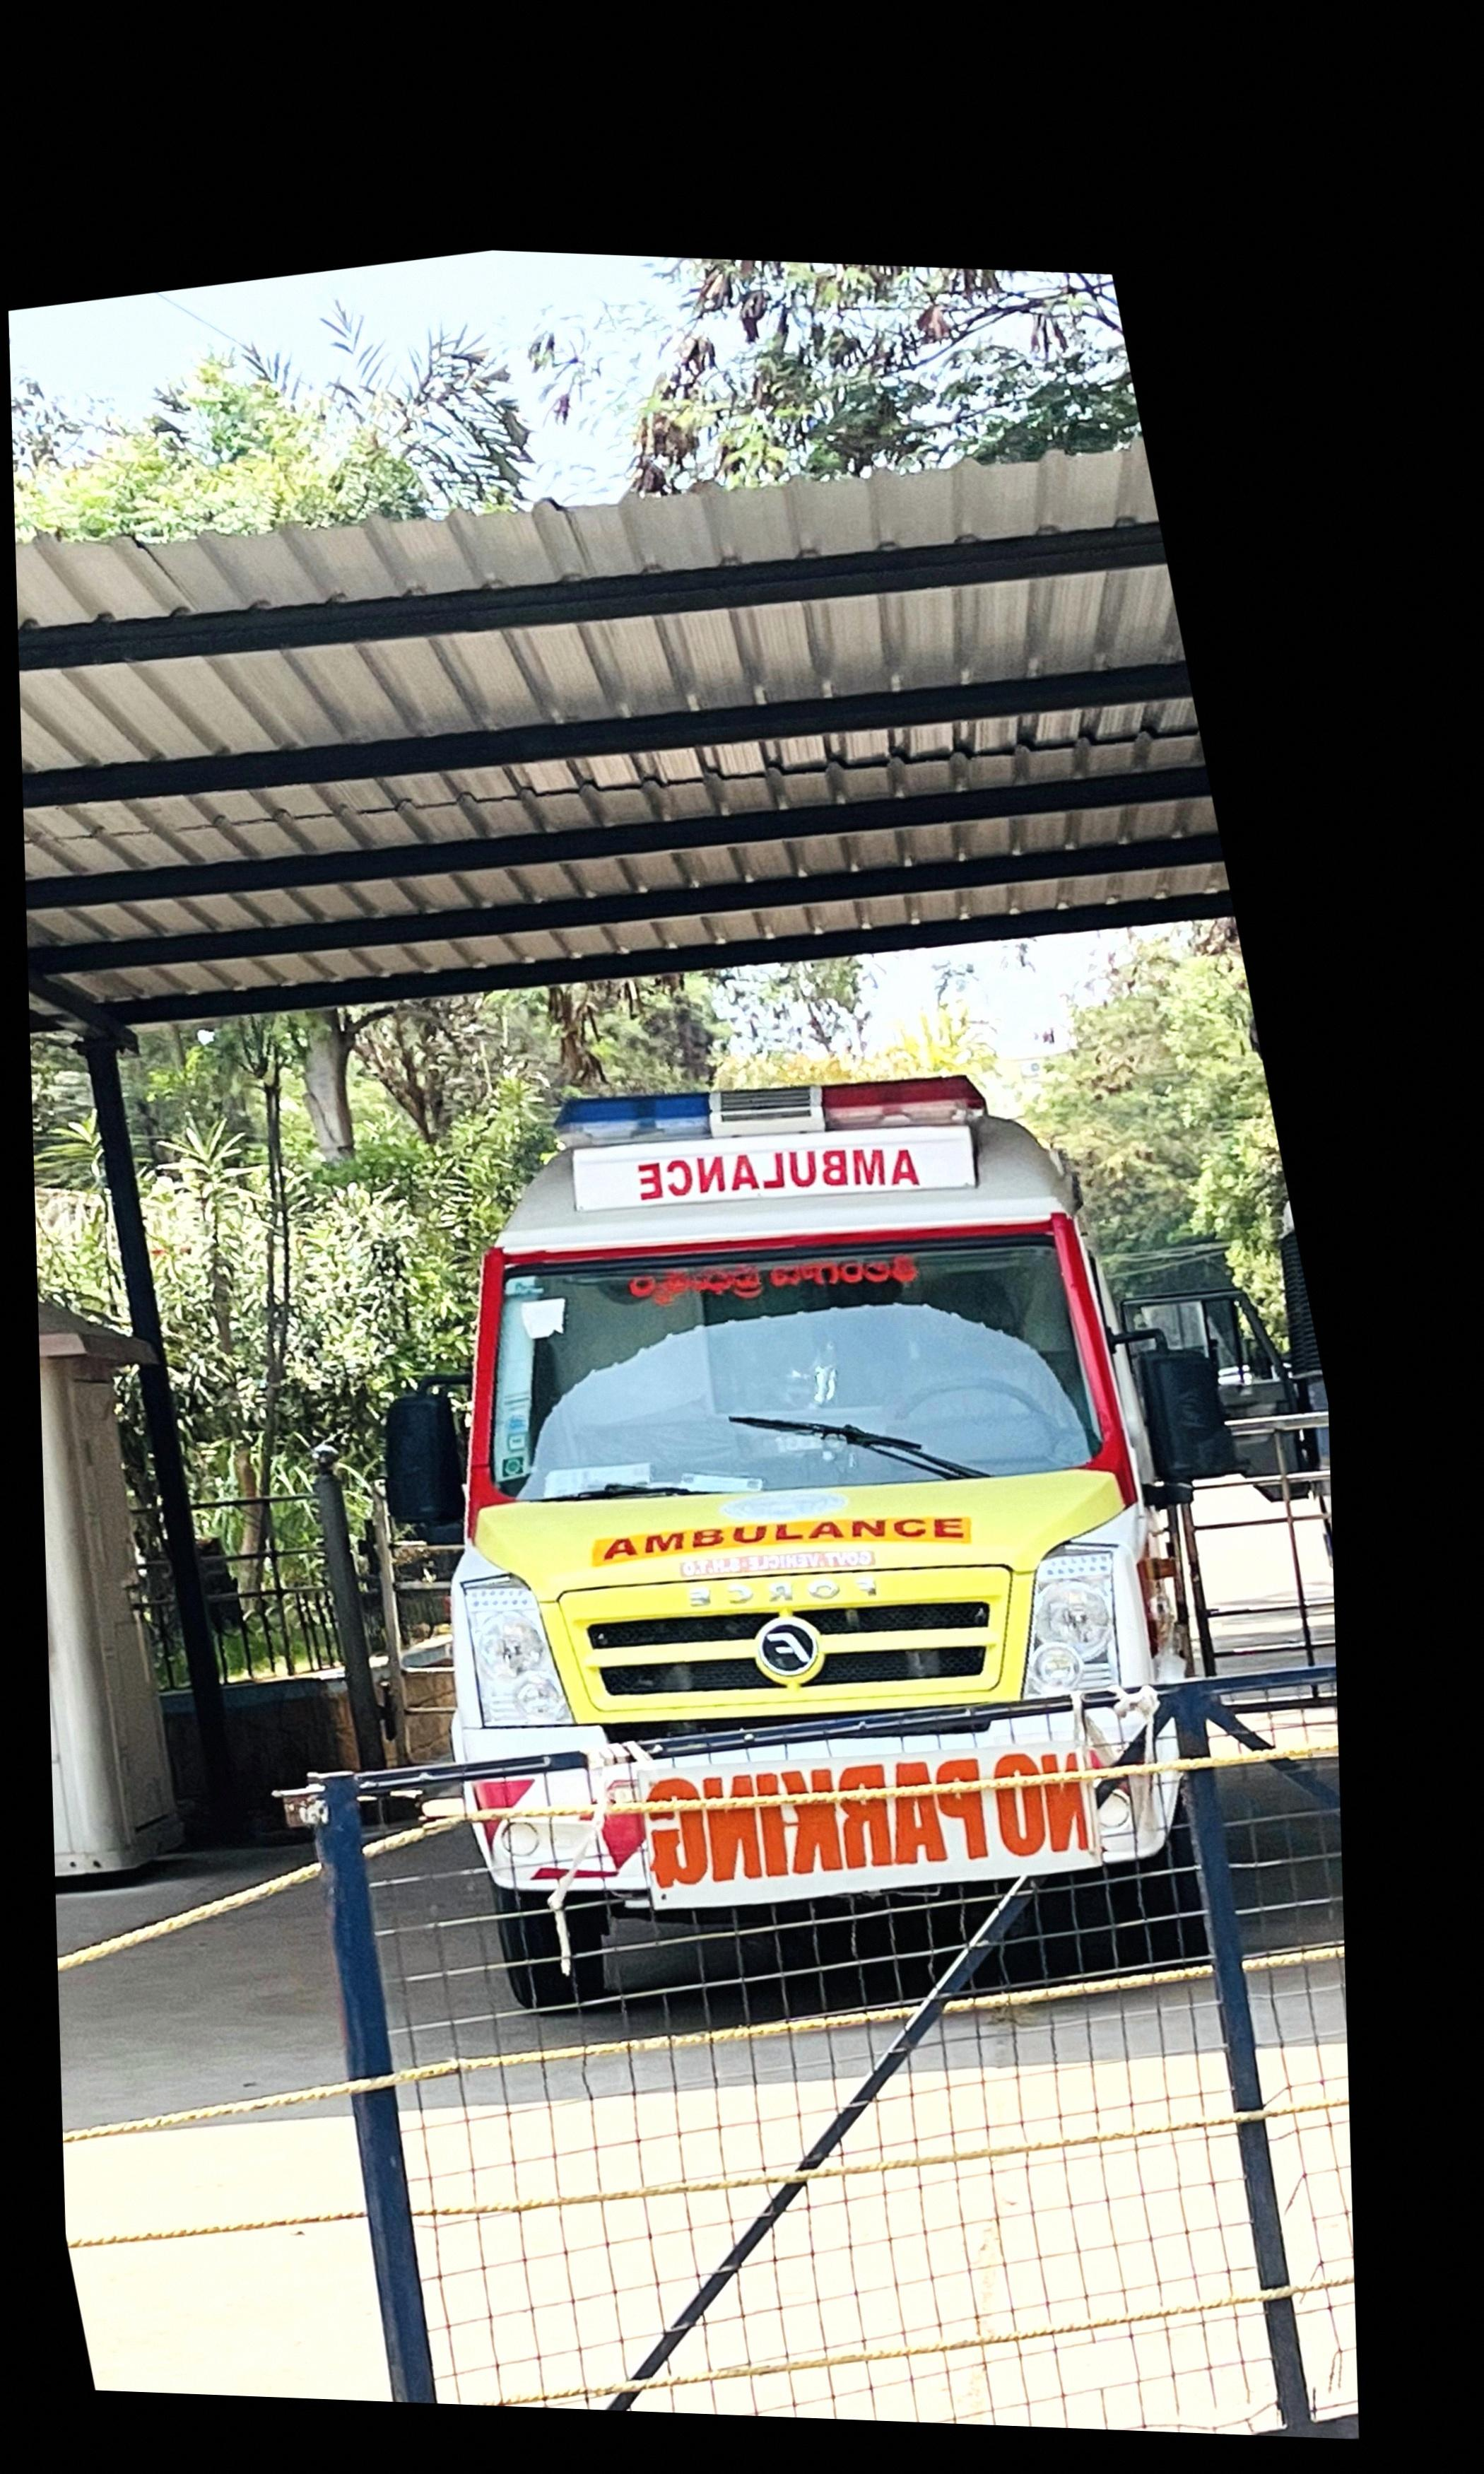ambulance: (382, 1071, 1173, 2004)
